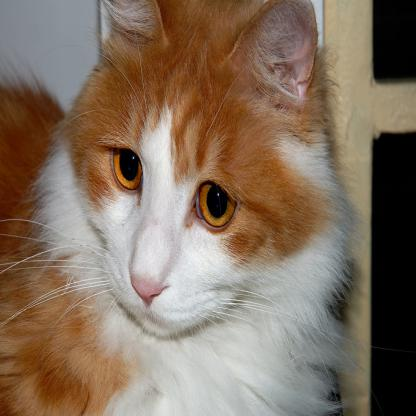cat: (53, 0, 345, 415)
